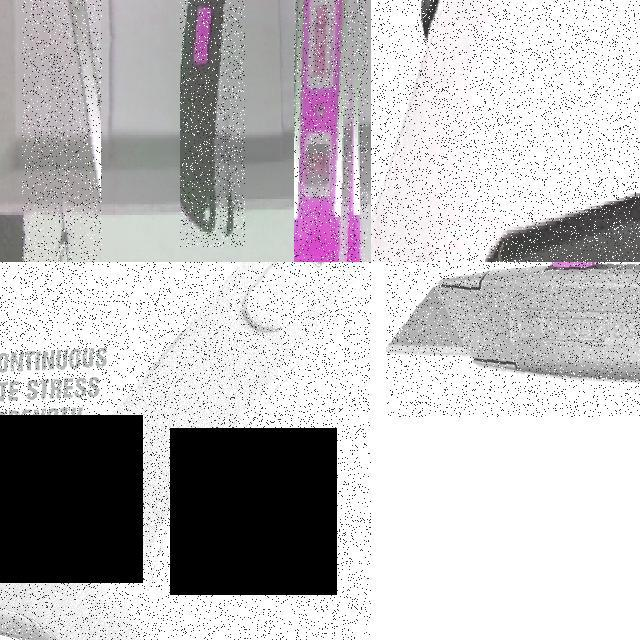estilete: (393, 263, 639, 380)
